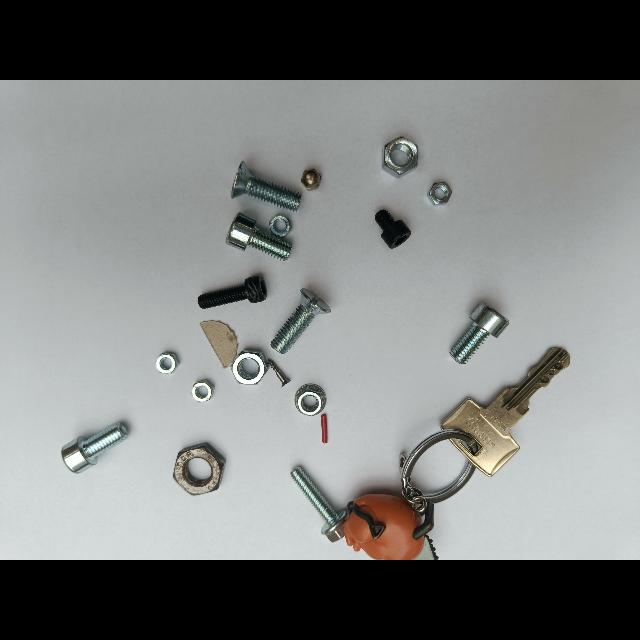bolt: (290, 466, 348, 542), (271, 288, 331, 354), (450, 302, 509, 364), (231, 161, 302, 212), (61, 422, 129, 472), (226, 213, 292, 261), (198, 275, 266, 309), (375, 209, 411, 249), (267, 358, 290, 387)
nuts: (174, 443, 225, 495), (382, 137, 418, 177), (230, 350, 269, 385), (294, 384, 326, 416), (427, 182, 452, 206), (191, 379, 215, 402), (269, 215, 291, 240), (156, 352, 180, 374), (301, 169, 321, 191)
